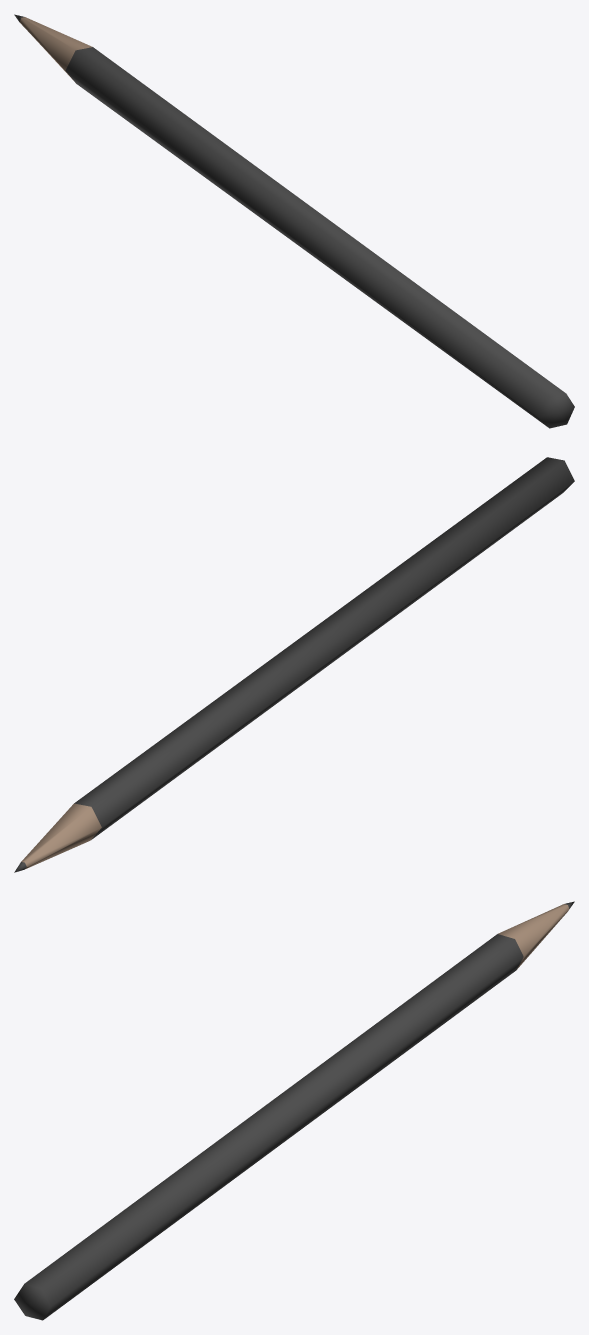
The model's file is Pencil_02.fbx.
3 renders of one model, top to bottom at view 1: azimuth 30°, elevation 25°; view 2: azimuth 150°, elevation 25°; view 3: azimuth 330°, elevation 25°, orthographic.
Parts seen in each view (by area): view 1: CR_Pencil_02; view 2: CR_Pencil_02; view 3: CR_Pencil_02.
Part boxes in pixels (x1,y1,x2,y2): CR_Pencil_02: (14,14,574,428); CR_Pencil_02: (14,457,574,872); CR_Pencil_02: (14,901,574,1320).
Bounding box in the file's own units: 0.00684 × 0.00582 × 0.1685.
